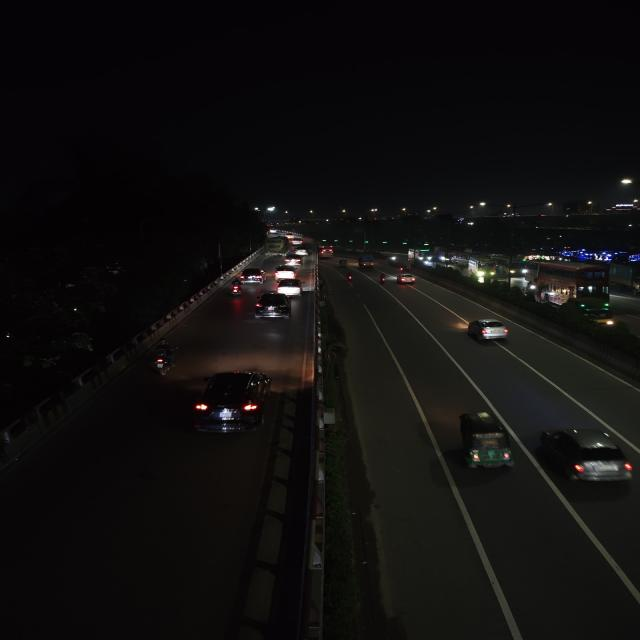bus: (533, 254, 614, 309), (462, 257, 497, 279), (494, 255, 526, 277), (266, 239, 290, 259)
car: (536, 424, 638, 488), (190, 367, 276, 439), (464, 316, 511, 345), (251, 291, 294, 321), (275, 278, 304, 296), (238, 267, 266, 284), (273, 264, 298, 279), (396, 272, 417, 286), (278, 259, 304, 269), (284, 254, 304, 266), (292, 246, 308, 256)
cng: (448, 409, 516, 475)
motorcycle: (148, 339, 184, 379), (228, 280, 246, 298), (378, 272, 389, 284), (344, 272, 354, 284), (338, 259, 349, 269), (395, 265, 407, 273)
truck: (576, 296, 615, 331), (357, 253, 376, 269)
